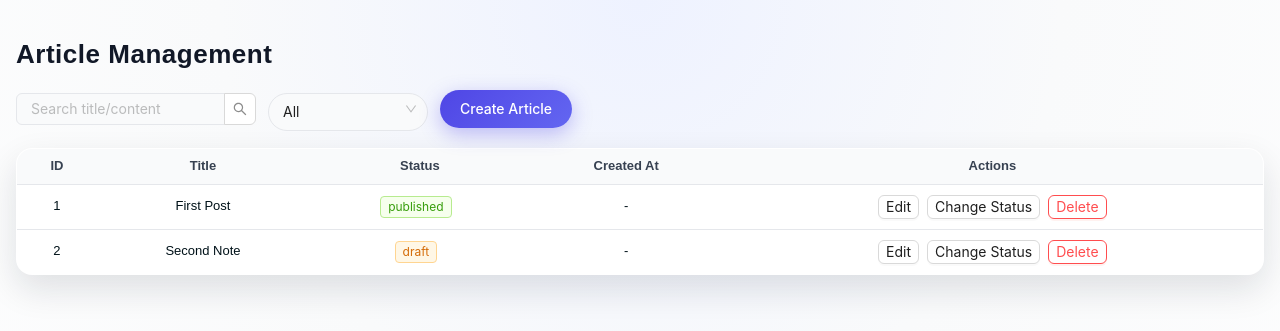
ArticleManagementPage › filters posts by keyword
expect the text "First Post" is shown: met, box 97,184 -> 309,229
In the search field with placeholder "Search title/content": (112, 109) 31,98 -> 194,120, type "first"
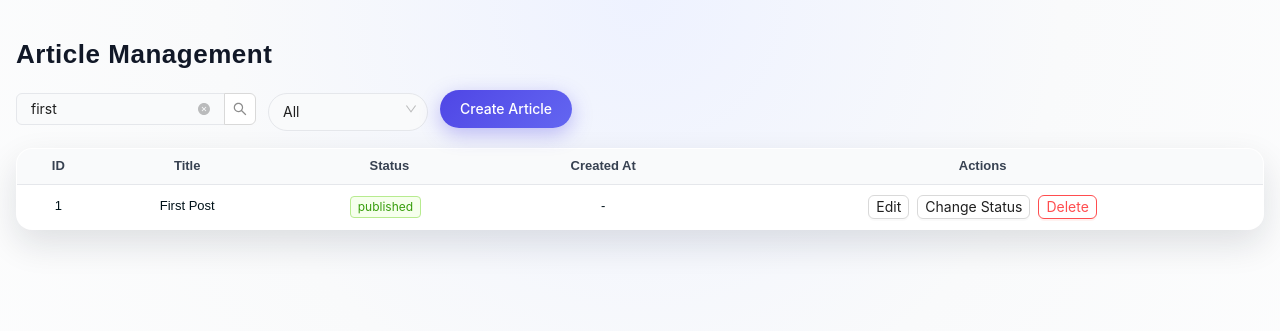
expect the text "First Post" is shown: met, box 100,184 -> 275,229
expect the text "Second Note" is gone: met
